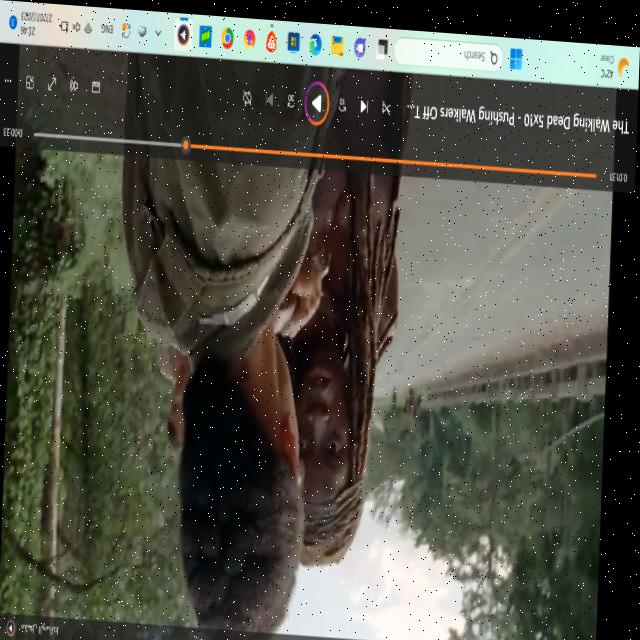human: (190, 345, 302, 636), (288, 331, 370, 555)
